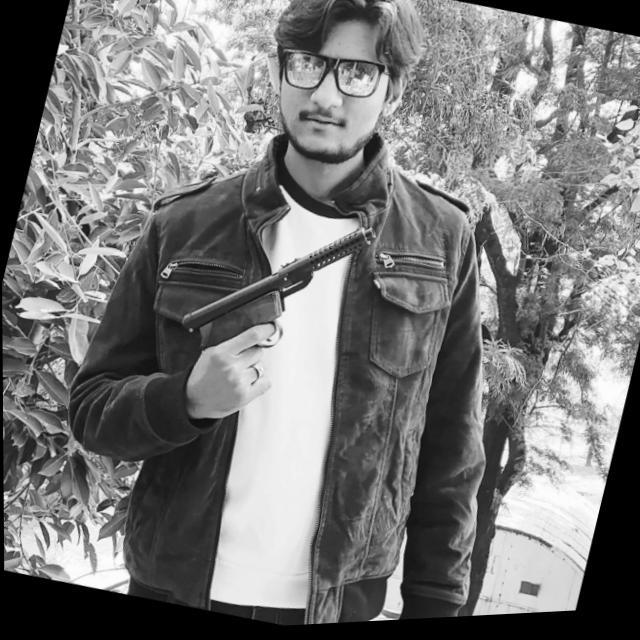weapon: (163, 188, 383, 424)
